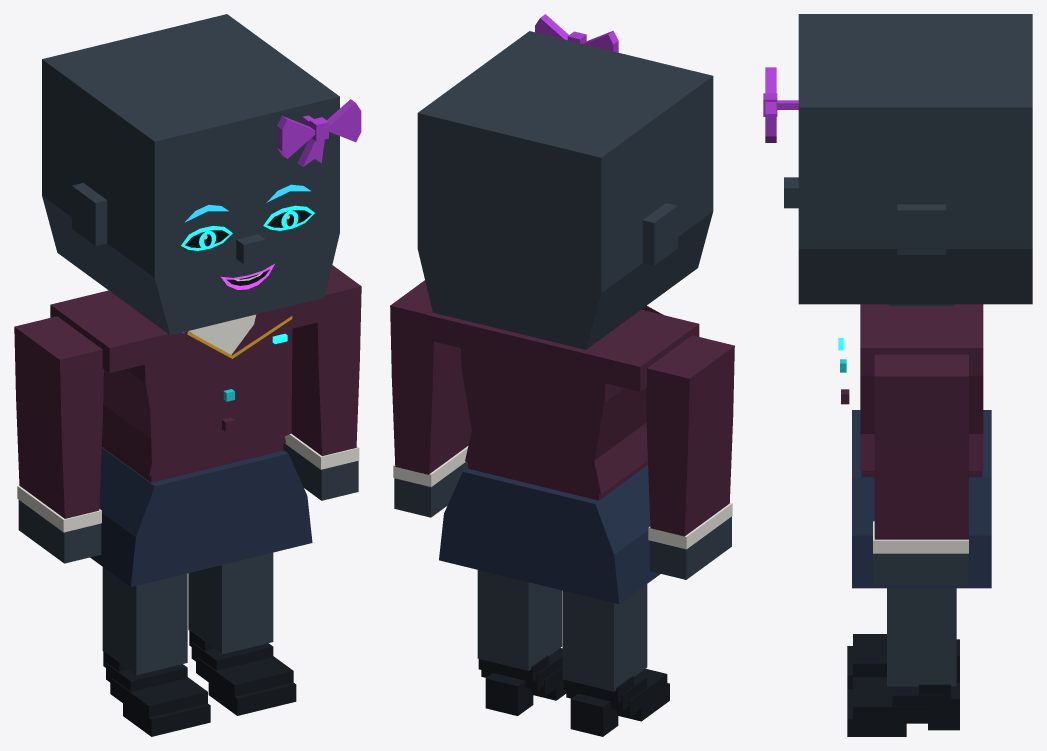
File: sample_5.glb
3 views of the same model, side by side, from view 1: azimuth 30°, elevation 25°; view 2: azimuth 150°, elevation 25°; view 3: azimuth 270°, elevation 25° (orthographic). The views are drawn at different scales.
Visible parts, largest first — view 1: char_head_visual, char_torso_visual, char_arm_negx_visual, char_leg_negx_visual, char_leg_posx_visual, char_arm_posx_visual, char_bow_visual, char_hand_negx_visual, char_hand_posx_visual, char_eye_negx_visual, char_eye_posx_visual, char_mouth_visual; view 2: char_head_visual, char_torso_visual, char_arm_negx_visual, char_arm_posx_visual, char_leg_negx_visual, char_leg_posx_visual, char_hand_negx_visual, char_hand_posx_visual, char_bow_visual; view 3: char_head_visual, char_arm_posx_visual, char_torso_visual, char_leg_posx_visual, char_hand_posx_visual, char_leg_negx_visual, char_bow_visual.
Part boxes in pixels (left/top/right/bottom): char_head_visual: left=42, top=14, right=339, bottom=335; char_torso_visual: left=50, top=290, right=325, bottom=586; char_arm_negx_visual: left=14, top=316, right=103, bottom=532; char_leg_negx_visual: left=102, top=567, right=210, bottom=736; char_leg_posx_visual: left=188, top=552, right=296, bottom=715; char_arm_posx_visual: left=285, top=265, right=361, bottom=469; char_bow_visual: left=277, top=99, right=361, bottom=166; char_hand_negx_visual: left=18, top=500, right=101, bottom=563; char_hand_posx_visual: left=283, top=443, right=358, bottom=500; char_eye_negx_visual: left=181, top=226, right=232, bottom=250; char_eye_posx_visual: left=263, top=205, right=314, bottom=230; char_mouth_visual: left=221, top=264, right=274, bottom=289; char_head_visual: left=417, top=31, right=713, bottom=349; char_torso_visual: left=425, top=305, right=699, bottom=604; char_arm_negx_visual: left=646, top=335, right=734, bottom=549; char_arm_posx_visual: left=390, top=280, right=471, bottom=486; char_leg_negx_visual: left=562, top=584, right=669, bottom=736; char_leg_posx_visual: left=477, top=570, right=566, bottom=715; char_hand_negx_visual: left=649, top=516, right=731, bottom=579; char_hand_posx_visual: left=394, top=461, right=467, bottom=517; char_bow_visual: left=535, top=14, right=618, bottom=52; char_head_visual: left=784, top=14, right=1032, bottom=306; char_arm_posx_visual: left=873, top=354, right=968, bottom=553; char_torso_visual: left=840, top=304, right=991, bottom=588; char_leg_posx_visual: left=847, top=588, right=959, bottom=736; char_hand_posx_visual: left=873, top=553, right=967, bottom=585; char_leg_negx_visual: left=847, top=634, right=959, bottom=689; char_bow_visual: left=763, top=67, right=798, bottom=142.
Size of the model in its own units: 0.88 by 1.74 by 0.656.
